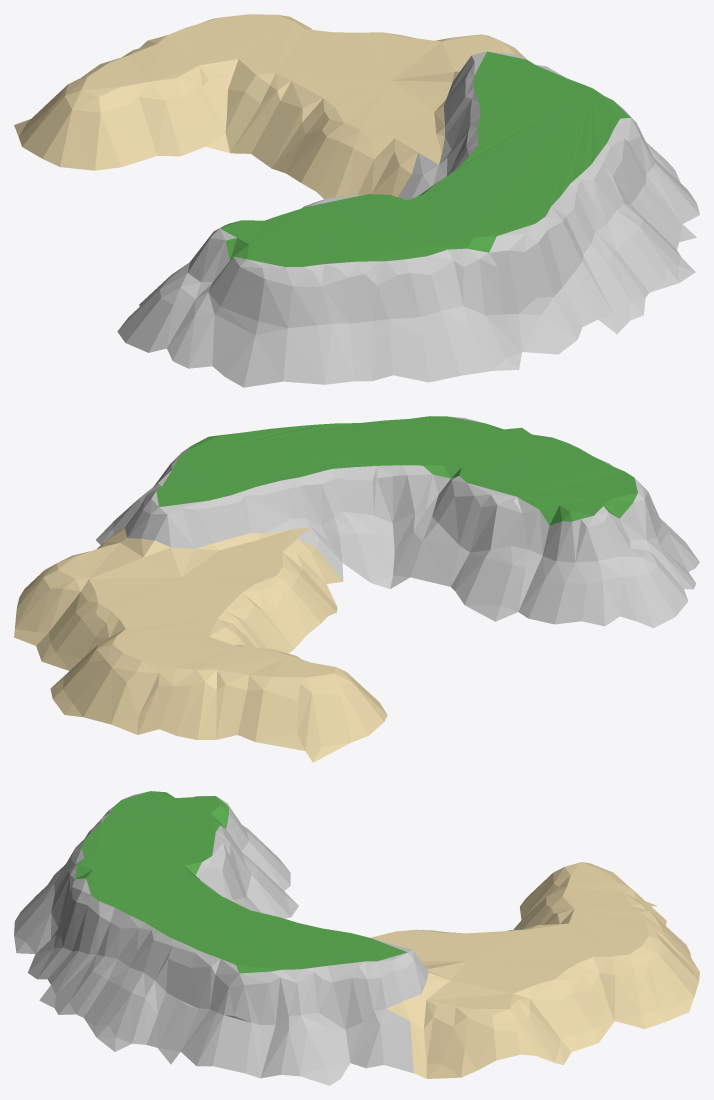
Rendered from Saari-30.fbx.
3 views of the same model, one above another, from view 1: azimuth 30°, elevation 25°; view 2: azimuth 150°, elevation 25°; view 3: azimuth 270°, elevation 25° (orthographic). The views are drawn at different scales.
Parts seen in each view (by area): view 1: Cube; view 2: Cube; view 3: Cube.
Part boxes in pixels (bbox=[...]): Cube: bbox=[14, 14, 699, 387]; Cube: bbox=[14, 416, 699, 762]; Cube: bbox=[14, 791, 699, 1085].
Bounding box in the file's own units: 1369 × 228 × 1627.
